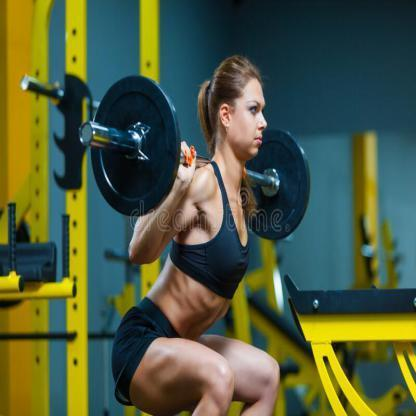barbell: (78, 73, 313, 241)
